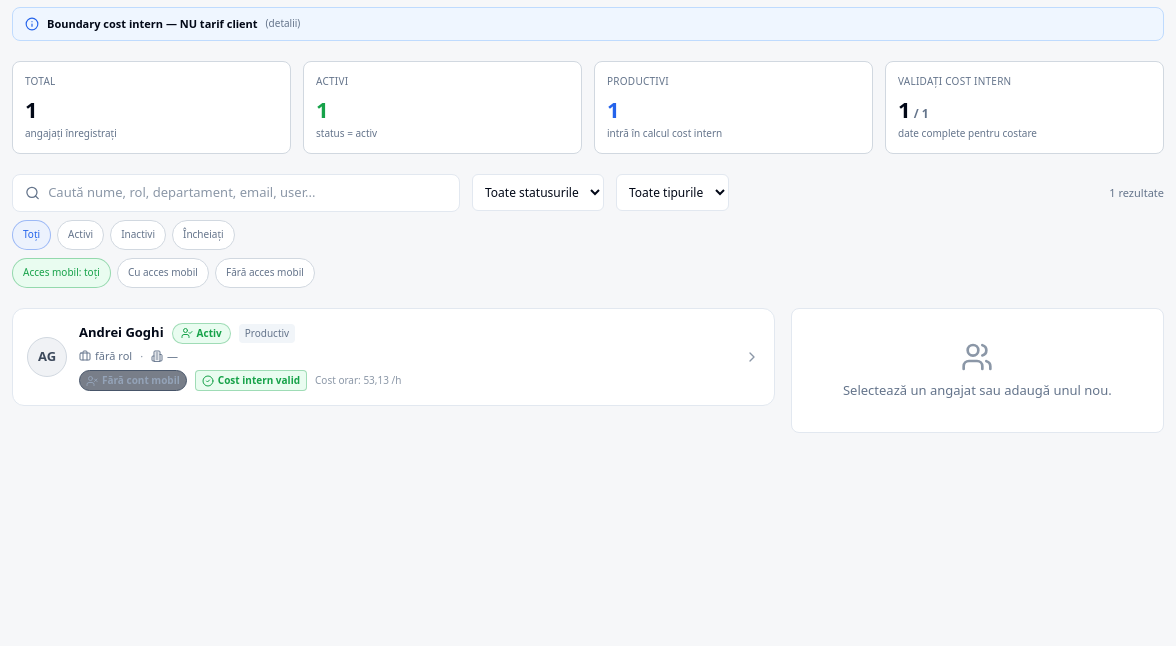
it: Employees internal pay base UI › shows internal pay in detail panel when employee selected
Step 1. Click the text "Andrei Goghi" → (121,333), box [79, 323, 164, 343]
(page scrolled)
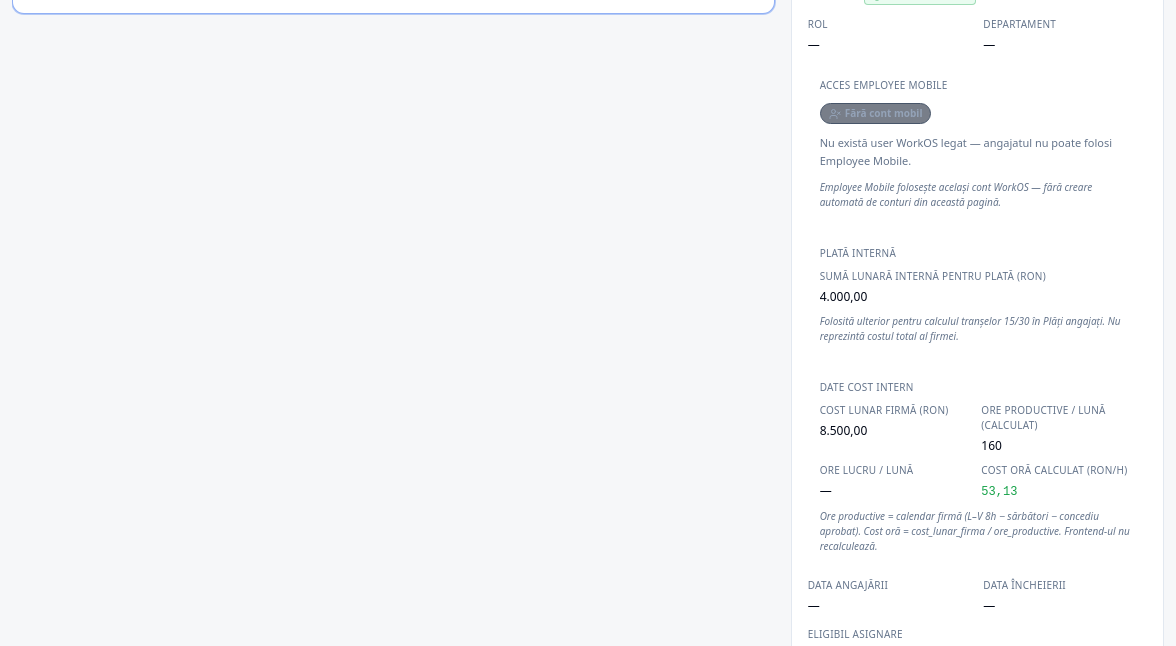
Expected: the text "Sumă lunară internă pentru plată (RON)" is shown, [820, 269, 1046, 283]
Expected: the text "4.000,00" is shown, [820, 288, 867, 305]
